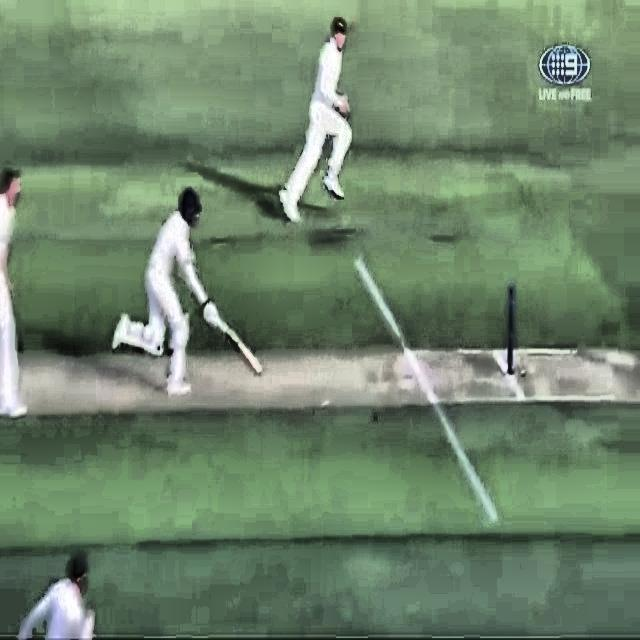Bat: (197, 300, 265, 379)
Pitch_Line: (352, 256, 500, 524)
Undis_Wicket: (505, 285, 521, 376)
